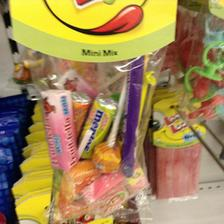Suessigkeit: (12, 1, 164, 182), (152, 99, 210, 201), (189, 3, 223, 113)
